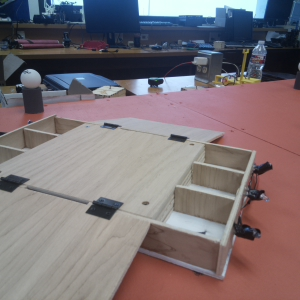obstacle: (21, 70, 48, 114), (293, 64, 300, 89)
side: (151, 145, 267, 262), (1, 118, 90, 154)
slope: (1, 172, 133, 292), (96, 111, 219, 141)
